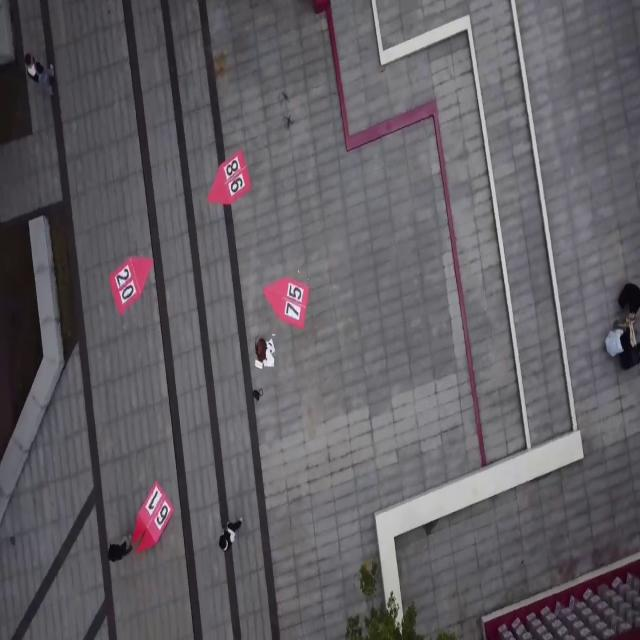-sign-: (132, 481, 174, 554), (206, 148, 252, 206), (109, 256, 153, 316), (264, 276, 309, 331)
